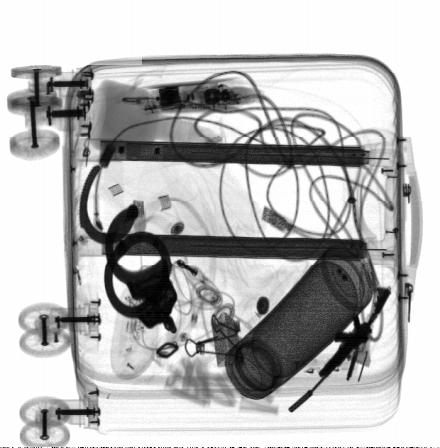Gun: (287, 283, 393, 417)
HandCuffs: (79, 161, 178, 334)
